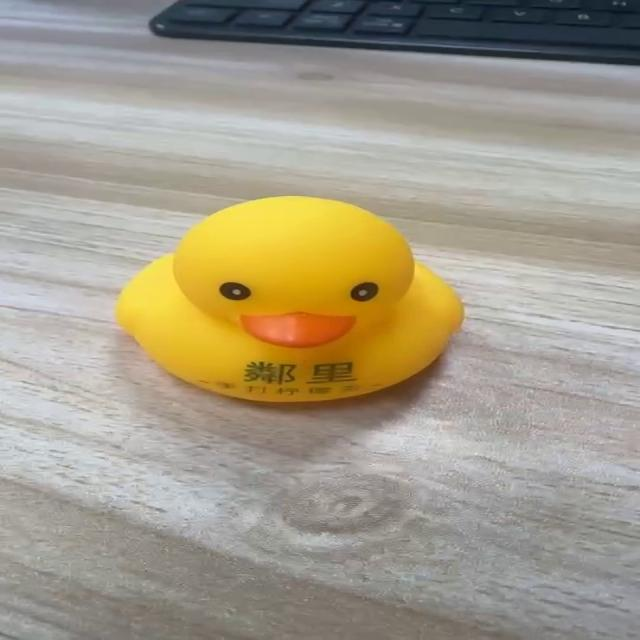yellow_duck: (112, 194, 466, 404)
